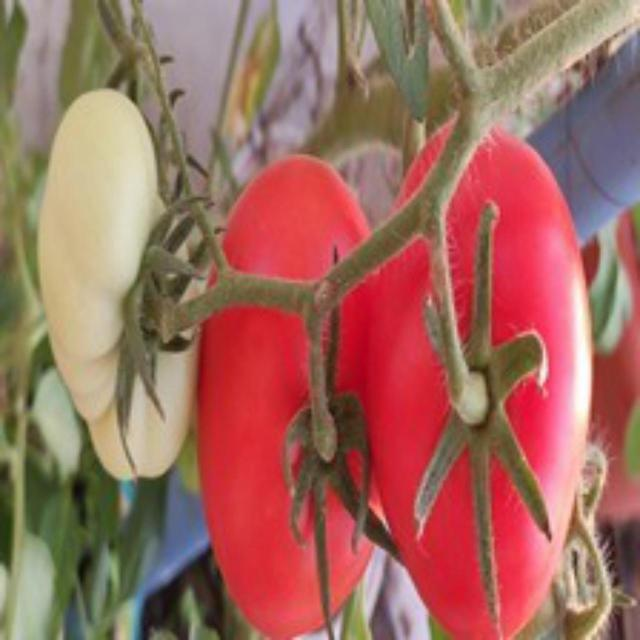tomato: (371, 103, 597, 637), (183, 140, 388, 637)
